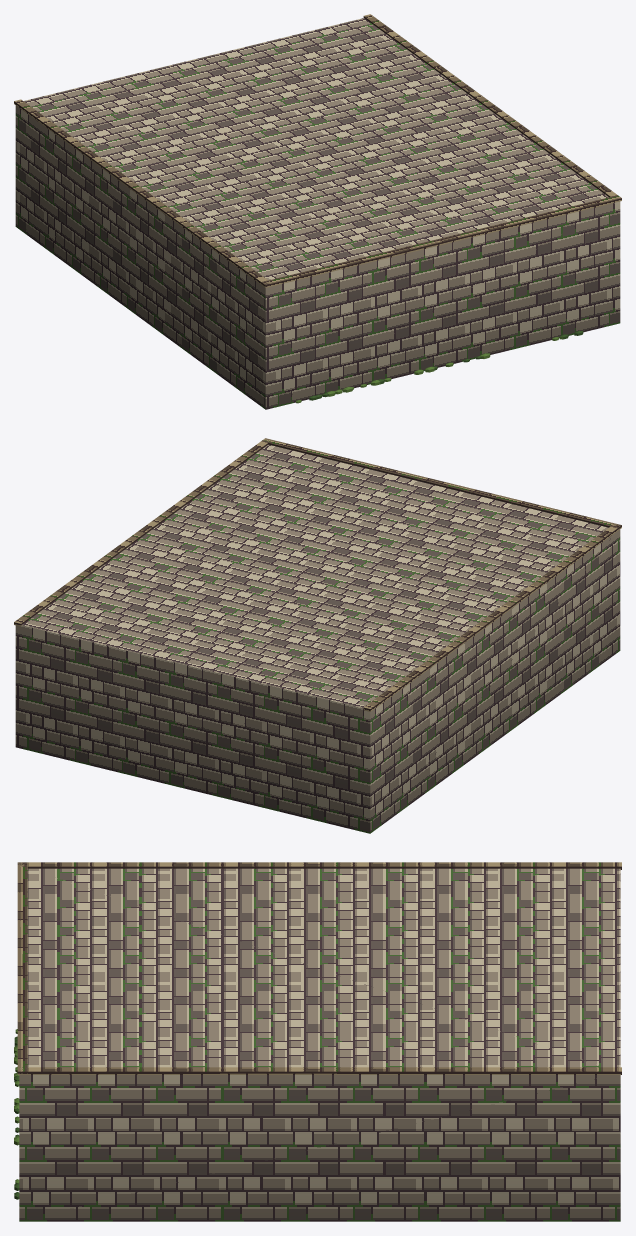
The model's file is scene_wall_n.glb.
The picture shows the model from 3 angles, top to bottom: view 1: azimuth 30°, elevation 25°; view 2: azimuth 150°, elevation 25°; view 3: azimuth 270°, elevation 25°; orthographic projection. The views are drawn at different scales.
Parts seen in each view (by area): view 1: scene_wall_n; view 2: scene_wall_n; view 3: scene_wall_n.
Part boxes in pixels (box(x1,y1,x2,y2)): scene_wall_n: box(14, 14, 621, 409); scene_wall_n: box(14, 438, 621, 833); scene_wall_n: box(14, 862, 621, 1221).
Size of the model in its own units: 18.1 by 6.17 by 22.24.
2 materials, 1 textured.
